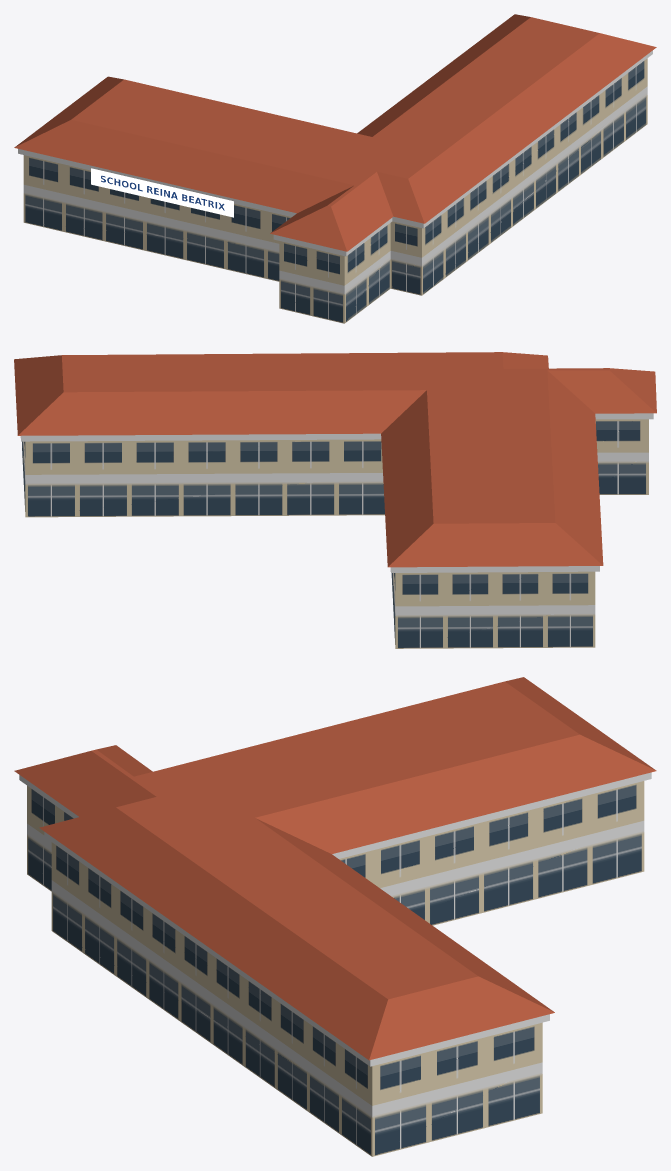
The model's file is reinabeatrix.glb.
The picture shows the model from 3 angles, top to bottom: view 1: azimuth 30°, elevation 25°; view 2: azimuth 150°, elevation 25°; view 3: azimuth 270°, elevation 25°; orthographic projection. The views are drawn at different scales.
Parts seen in each view (by area): view 1: reinabeatrix_lod0; view 2: reinabeatrix_lod0; view 3: reinabeatrix_lod0.
Part boxes in pixels (<box>): reinabeatrix_lod0: <box>14,14,656,323</box>; reinabeatrix_lod0: <box>14,352,656,648</box>; reinabeatrix_lod0: <box>14,677,656,1156</box>.
Size of what is drawn, in the model's own units: 58.05 by 9.2 by 41.14.
Materials: 5 (3 with a texture image).
